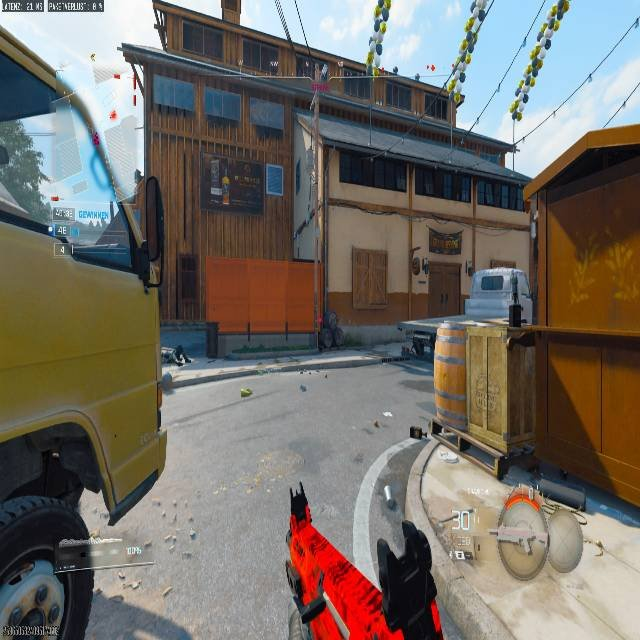head: (329, 310, 336, 319)
player: (320, 310, 342, 349)
